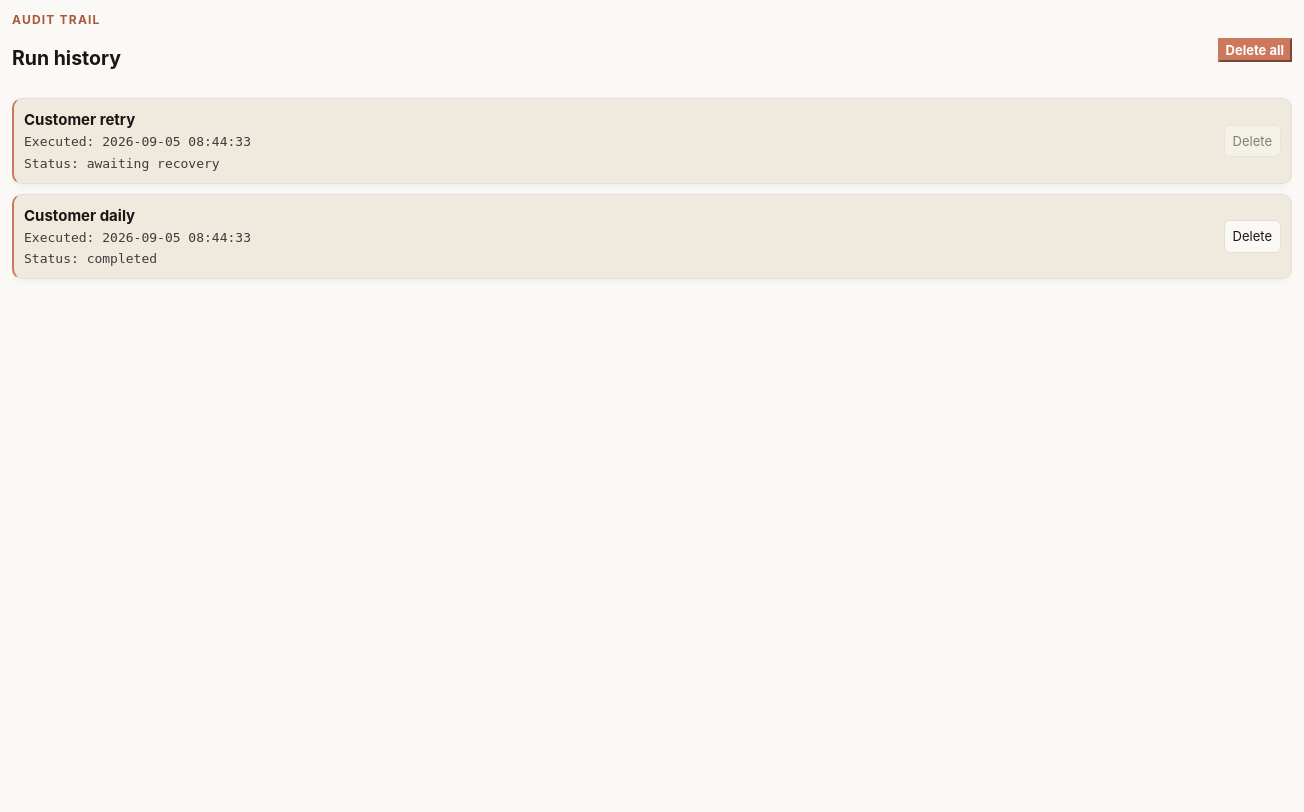
Test: renders details directly below the clicked history and closes them when clicked again
Expected: the list named "Run history" is shown, [12, 98, 1292, 279]
Click the button with aria-label "View details for Customer daily" at (80, 215), box [24, 205, 1214, 268]
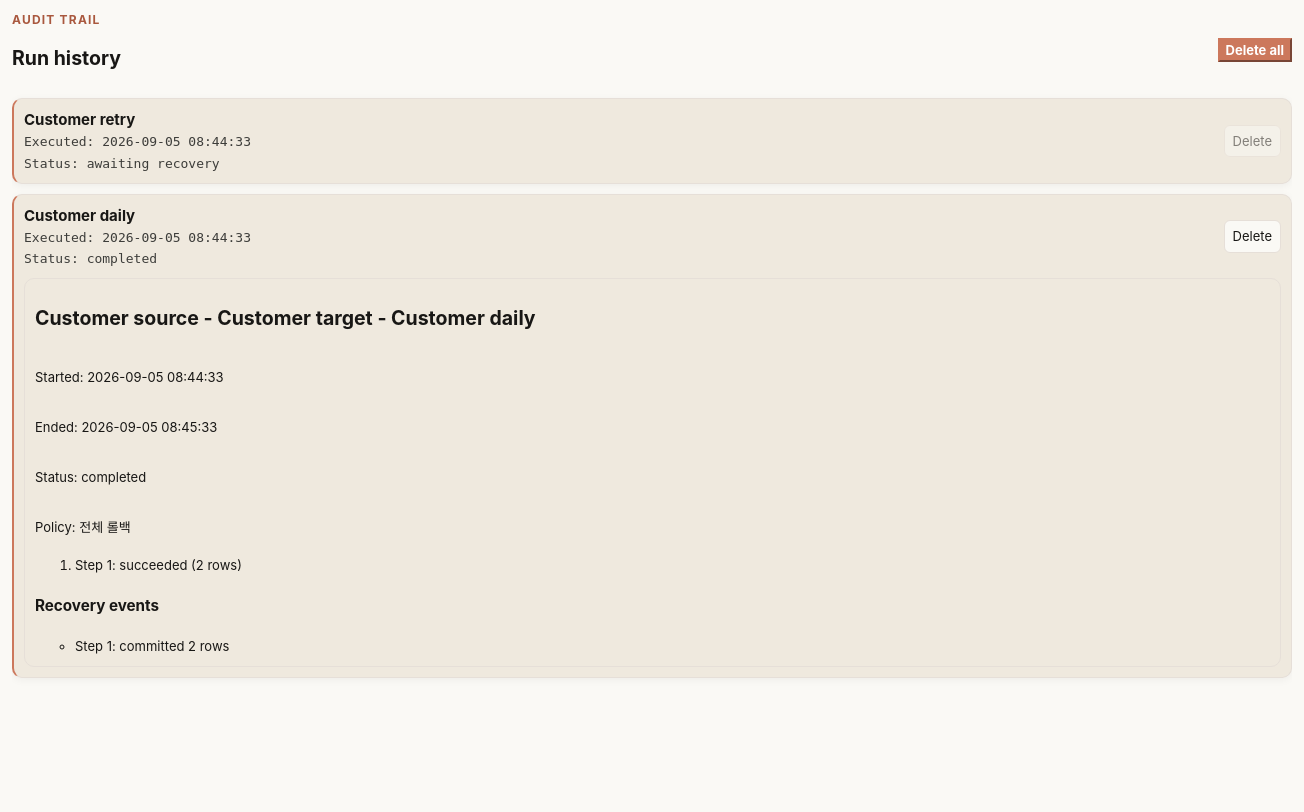
Now the heading "Customer source - Customer target - Customer daily" is shown, box [35, 306, 536, 330]
Click the button with aria-label "View details for Customer retry" at (80, 120), box [24, 109, 1214, 173]
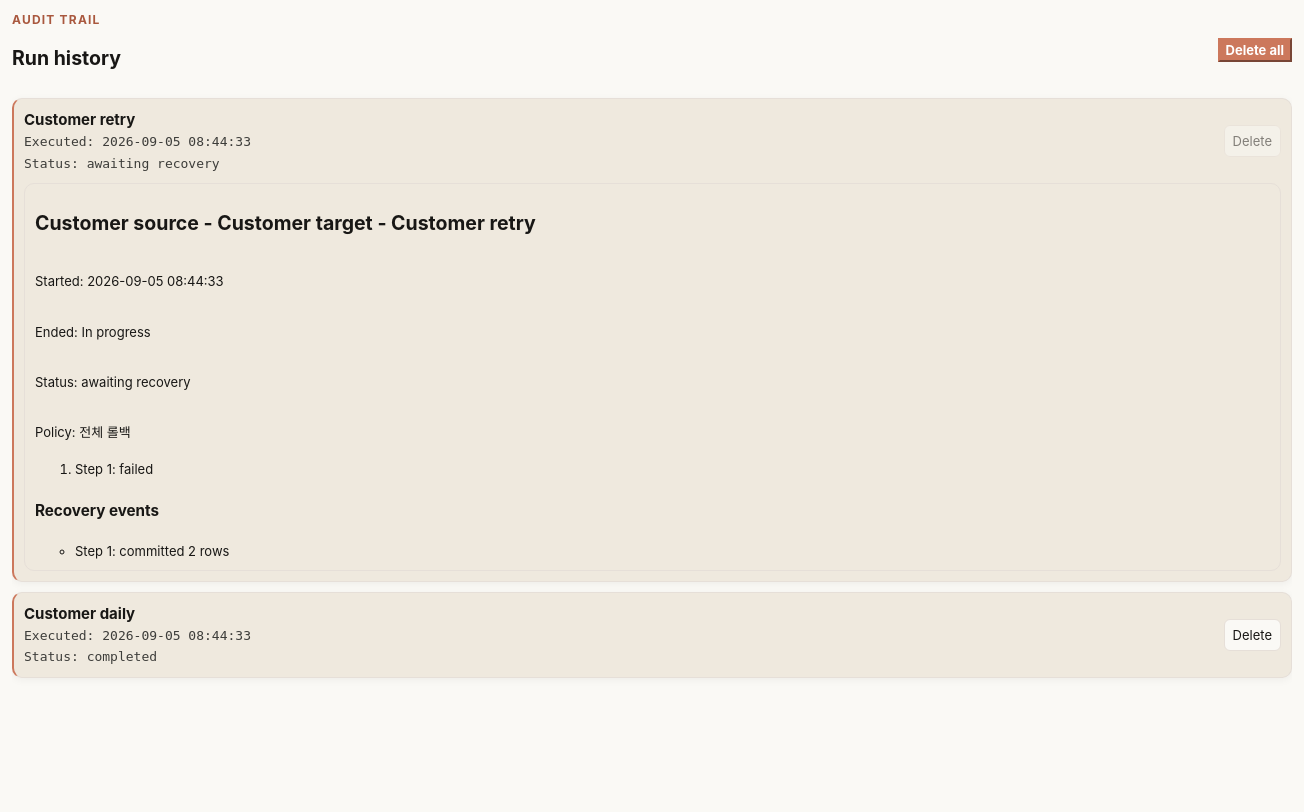
Now the heading "Customer source - Customer target - Customer retry" is shown, box [35, 211, 536, 235]
Now the heading "Customer source - Customer target - Customer daily" is gone
Click the button with aria-label "View details for Customer retry" at (80, 120), box [24, 109, 1214, 173]
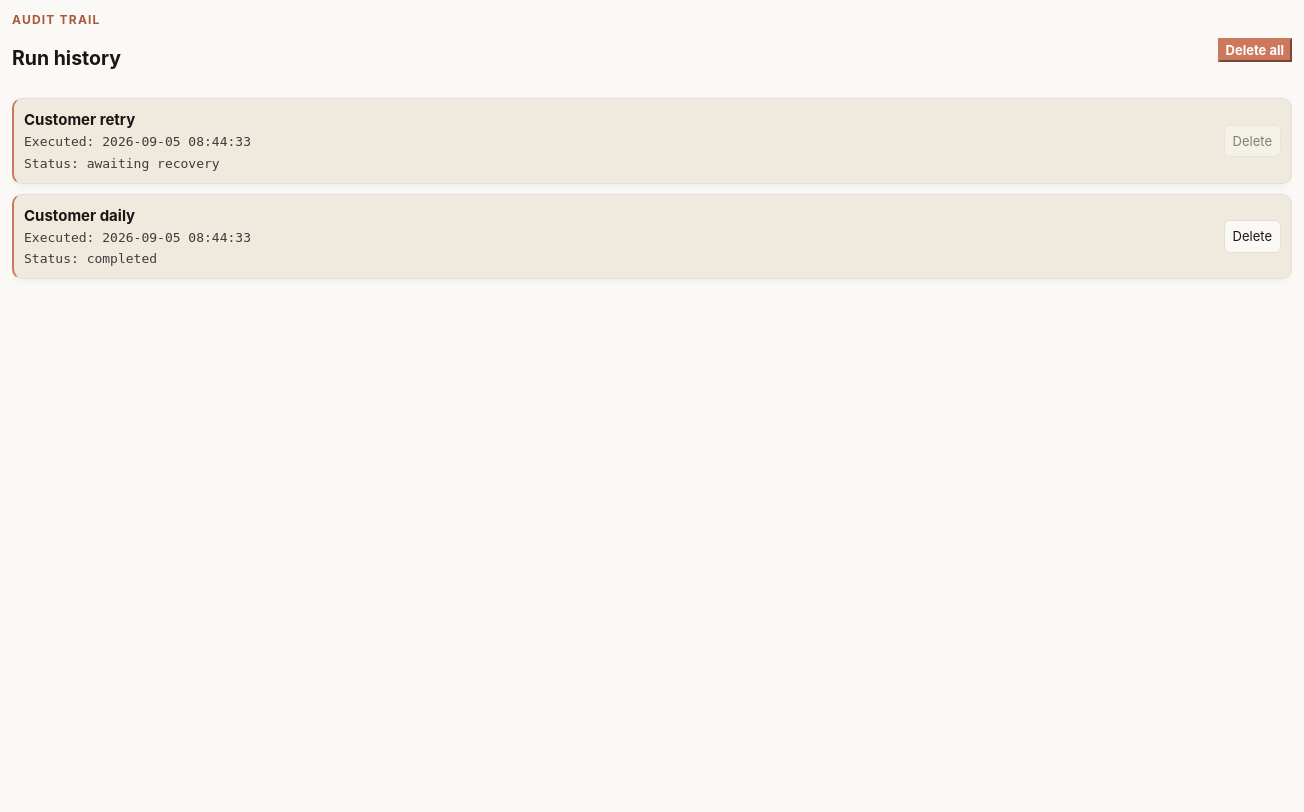
Now the heading "Customer source - Customer target - Customer retry" is gone
